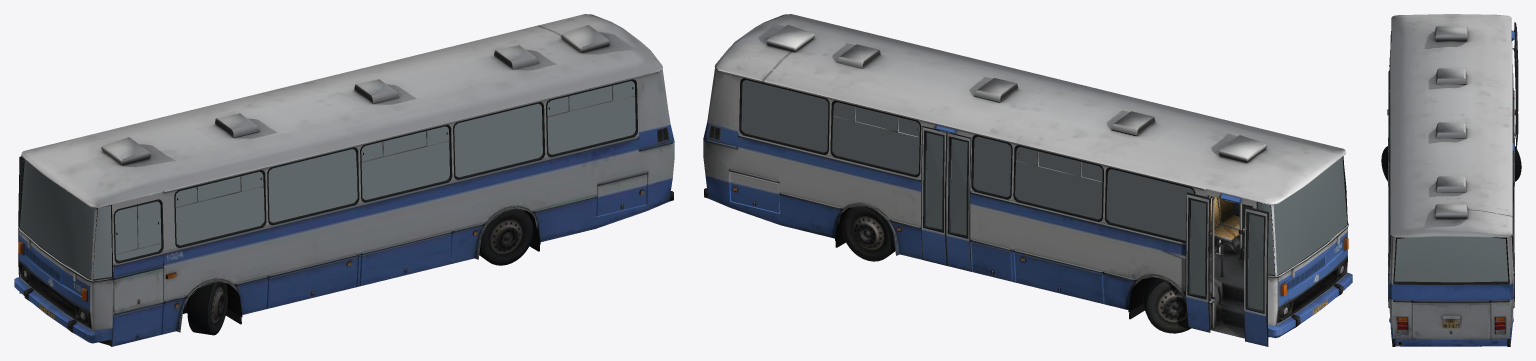
File: bus_karosa.glb
3 renders of one model, left to right at view 1: azimuth 30°, elevation 25°; view 2: azimuth 150°, elevation 25°; view 3: azimuth 270°, elevation 25°, orthographic. The views are drawn at different scales.
Parts seen in each view (by area): view 1: Bus, Windows, Wheels; view 2: Bus, Windows, Wheels, Seats; view 3: Bus, Windows, Wheels.
Part boxes in pixels (left/top/right/bottom): Bus: left=14, top=14, right=674, bottom=346; Windows: left=20, top=81, right=635, bottom=279; Wheels: left=187, top=209, right=533, bottom=335; Bus: left=703, top=14, right=1352, bottom=346; Windows: left=741, top=80, right=1347, bottom=310; Wheels: left=842, top=206, right=1191, bottom=333; Seats: left=921, top=128, right=1263, bottom=254; Bus: left=1387, top=14, right=1518, bottom=346; Windows: left=1394, top=236, right=1508, bottom=282; Wheels: left=1381, top=146, right=1521, bottom=181.
Bounding box in the file's own units: 10.86 × 3.06 × 2.8.
6 materials, 5 textured.
